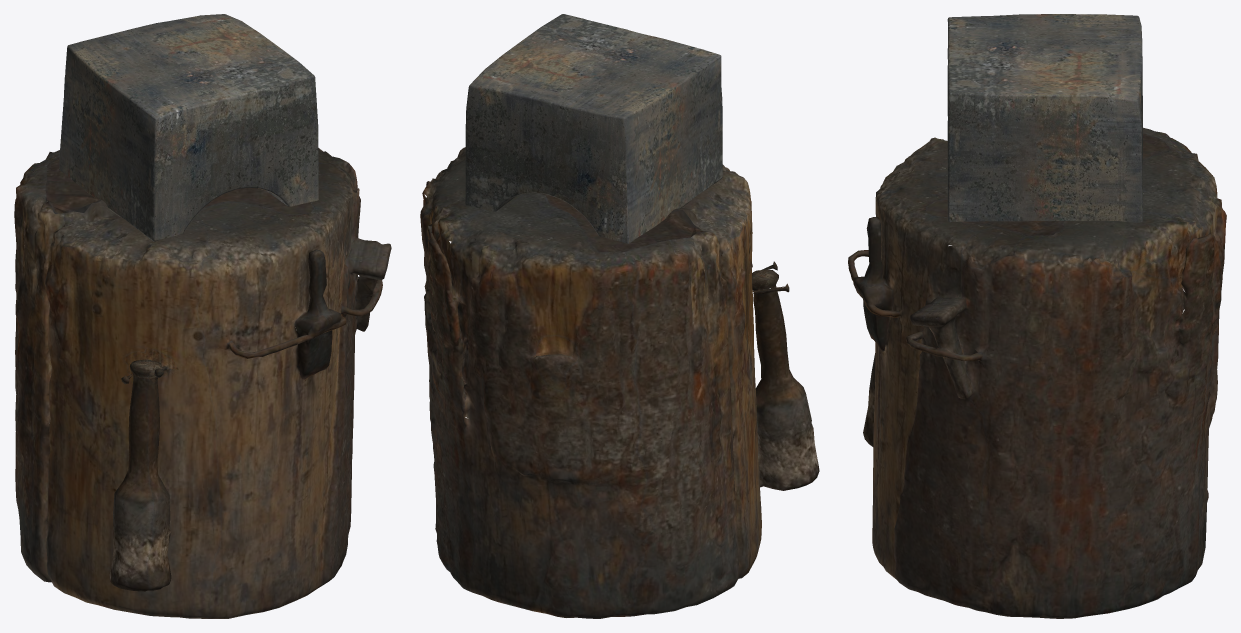
The model's file is Room_G_anvil.gltf.
3 renders of one model, left to right at view 1: azimuth 30°, elevation 25°; view 2: azimuth 150°, elevation 25°; view 3: azimuth 270°, elevation 25°, orthographic. The views are drawn at different scales.
Visible parts, largest first — view 1: Room_G_anvil_Cube.012; view 2: Room_G_anvil_Cube.012; view 3: Room_G_anvil_Cube.012.
Boxes of the visible parts, left/top/right/bottom form: Room_G_anvil_Cube.012: left=14, top=14, right=391, bottom=618; Room_G_anvil_Cube.012: left=420, top=14, right=819, bottom=618; Room_G_anvil_Cube.012: left=848, top=14, right=1226, bottom=618.
Bounding box in the file's own units: 0.3912 × 0.6095 × 0.4165.
1 material, 1 textured.
